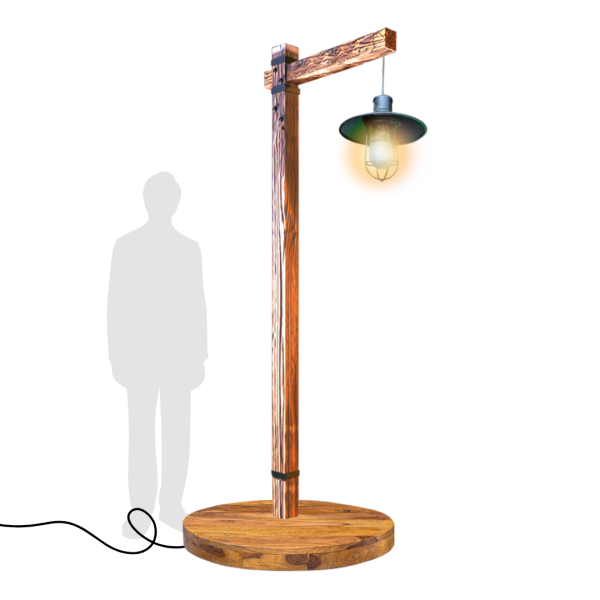light_pole: (246, 28, 352, 565)
